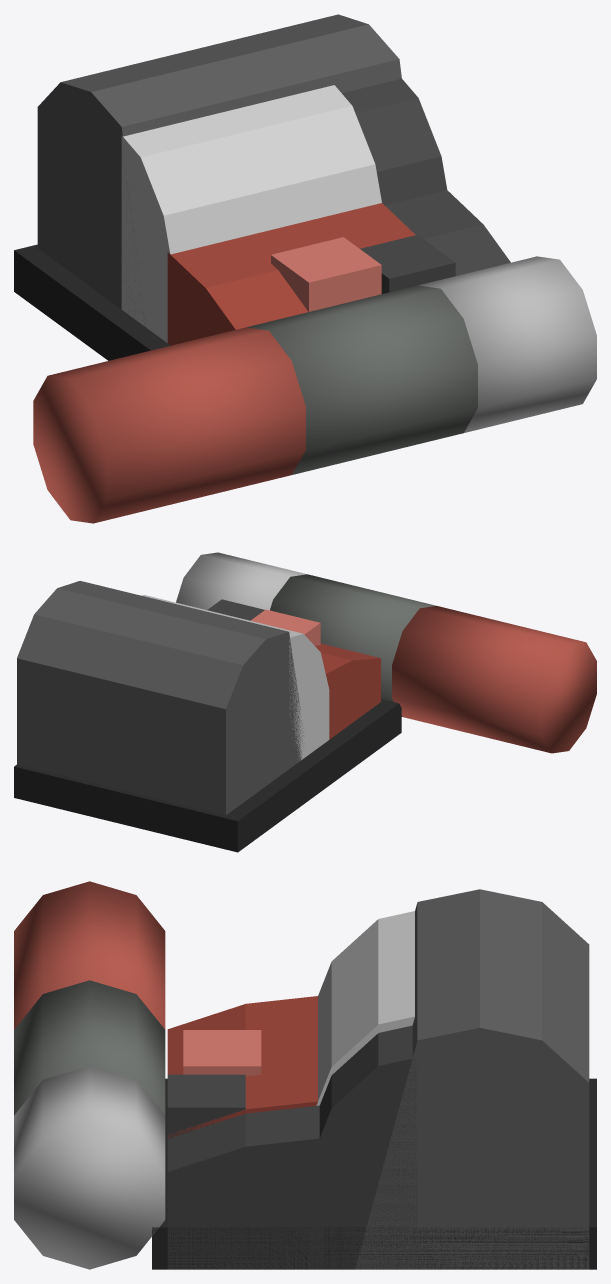
File: newshu-19.glb
3 views of the same model, one above another, from view 1: azimuth 30°, elevation 25°; view 2: azimuth 150°, elevation 25°; view 3: azimuth 270°, elevation 25° (orthographic). The views are drawn at different scales.
Visible parts, largest first — view 1: newshu-19, newshu-19-pipe; view 2: newshu-19, newshu-19-pipe; view 3: newshu-19, newshu-19-pipe.
Part boxes in pixels (x1,y1,x2,y2): newshu-19: [14, 14, 510, 360]; newshu-19-pipe: [33, 256, 596, 523]; newshu-19: [14, 581, 401, 852]; newshu-19-pipe: [176, 552, 596, 753]; newshu-19: [152, 889, 596, 1269]; newshu-19-pipe: [14, 881, 165, 1269].
Bounding box in the file's own units: 0.6167 × 0.285 × 0.6225.
